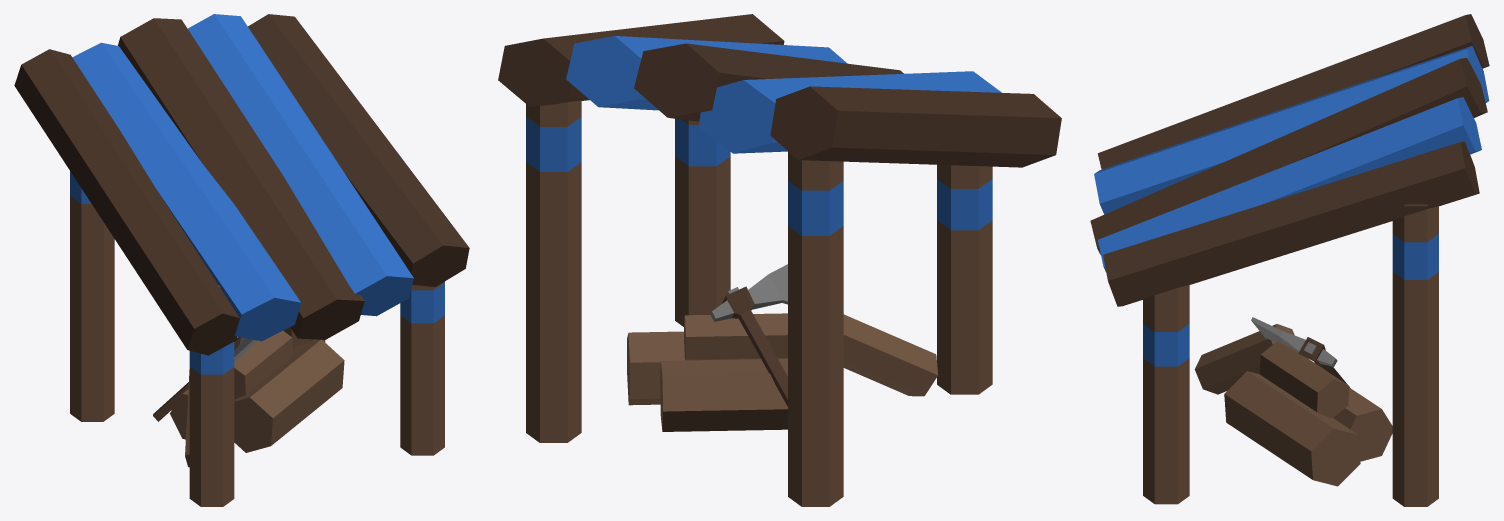
Rendered from Woodcutter Hut LvL 1.fbx.
3 renders of one model, left to right at view 1: azimuth 30°, elevation 25°; view 2: azimuth 150°, elevation 25°; view 3: azimuth 270°, elevation 25°, orthographic. The views are drawn at different scales.
Visible parts, largest first — view 1: Hut, TeamColorObj.002; view 2: Hut, TeamColorObj.002; view 3: Hut, TeamColorObj.002.
Boxes of the visible parts, x1,y1,x2,y2 form: Hut: [14, 14, 469, 506]; TeamColorObj.002: [70, 14, 444, 374]; Hut: [498, 14, 1061, 506]; TeamColorObj.002: [526, 36, 1001, 235]; Hut: [1090, 14, 1489, 506]; TeamColorObj.002: [1094, 45, 1489, 366].
Bounding box in the file's own units: 83.68 × 103 × 99.43.
